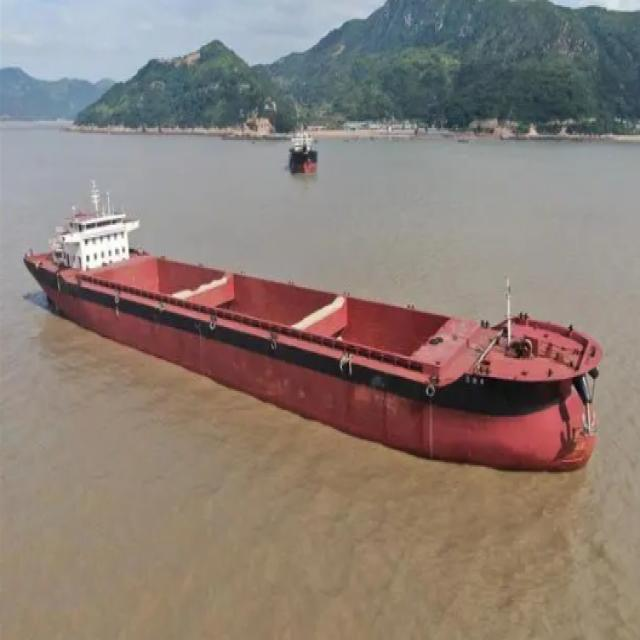cargoship: (24, 190, 600, 502), (280, 116, 324, 188)
